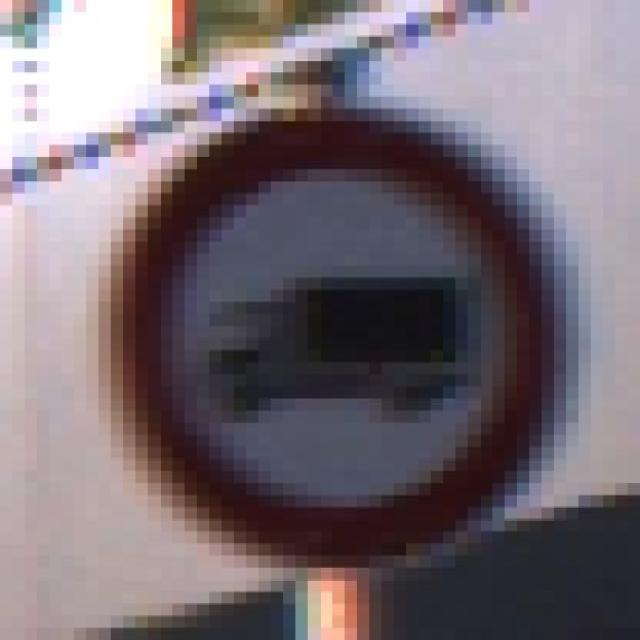Truck traffic is prohibited: (98, 109, 591, 568)
